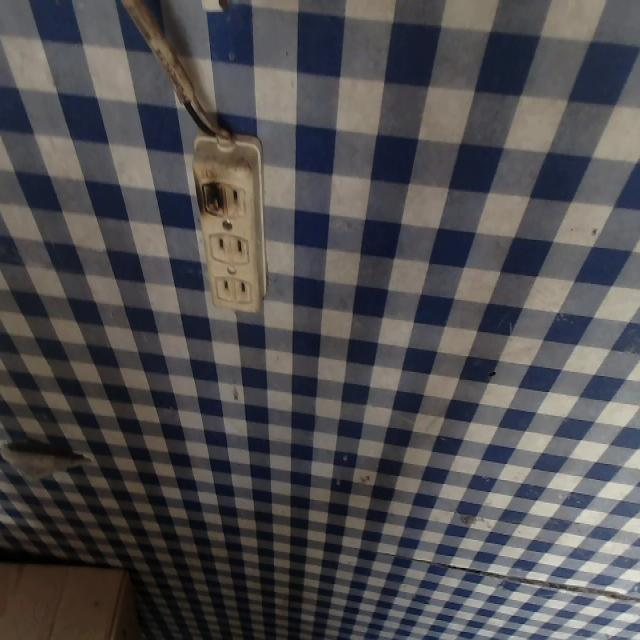-: (189, 176, 228, 225)
